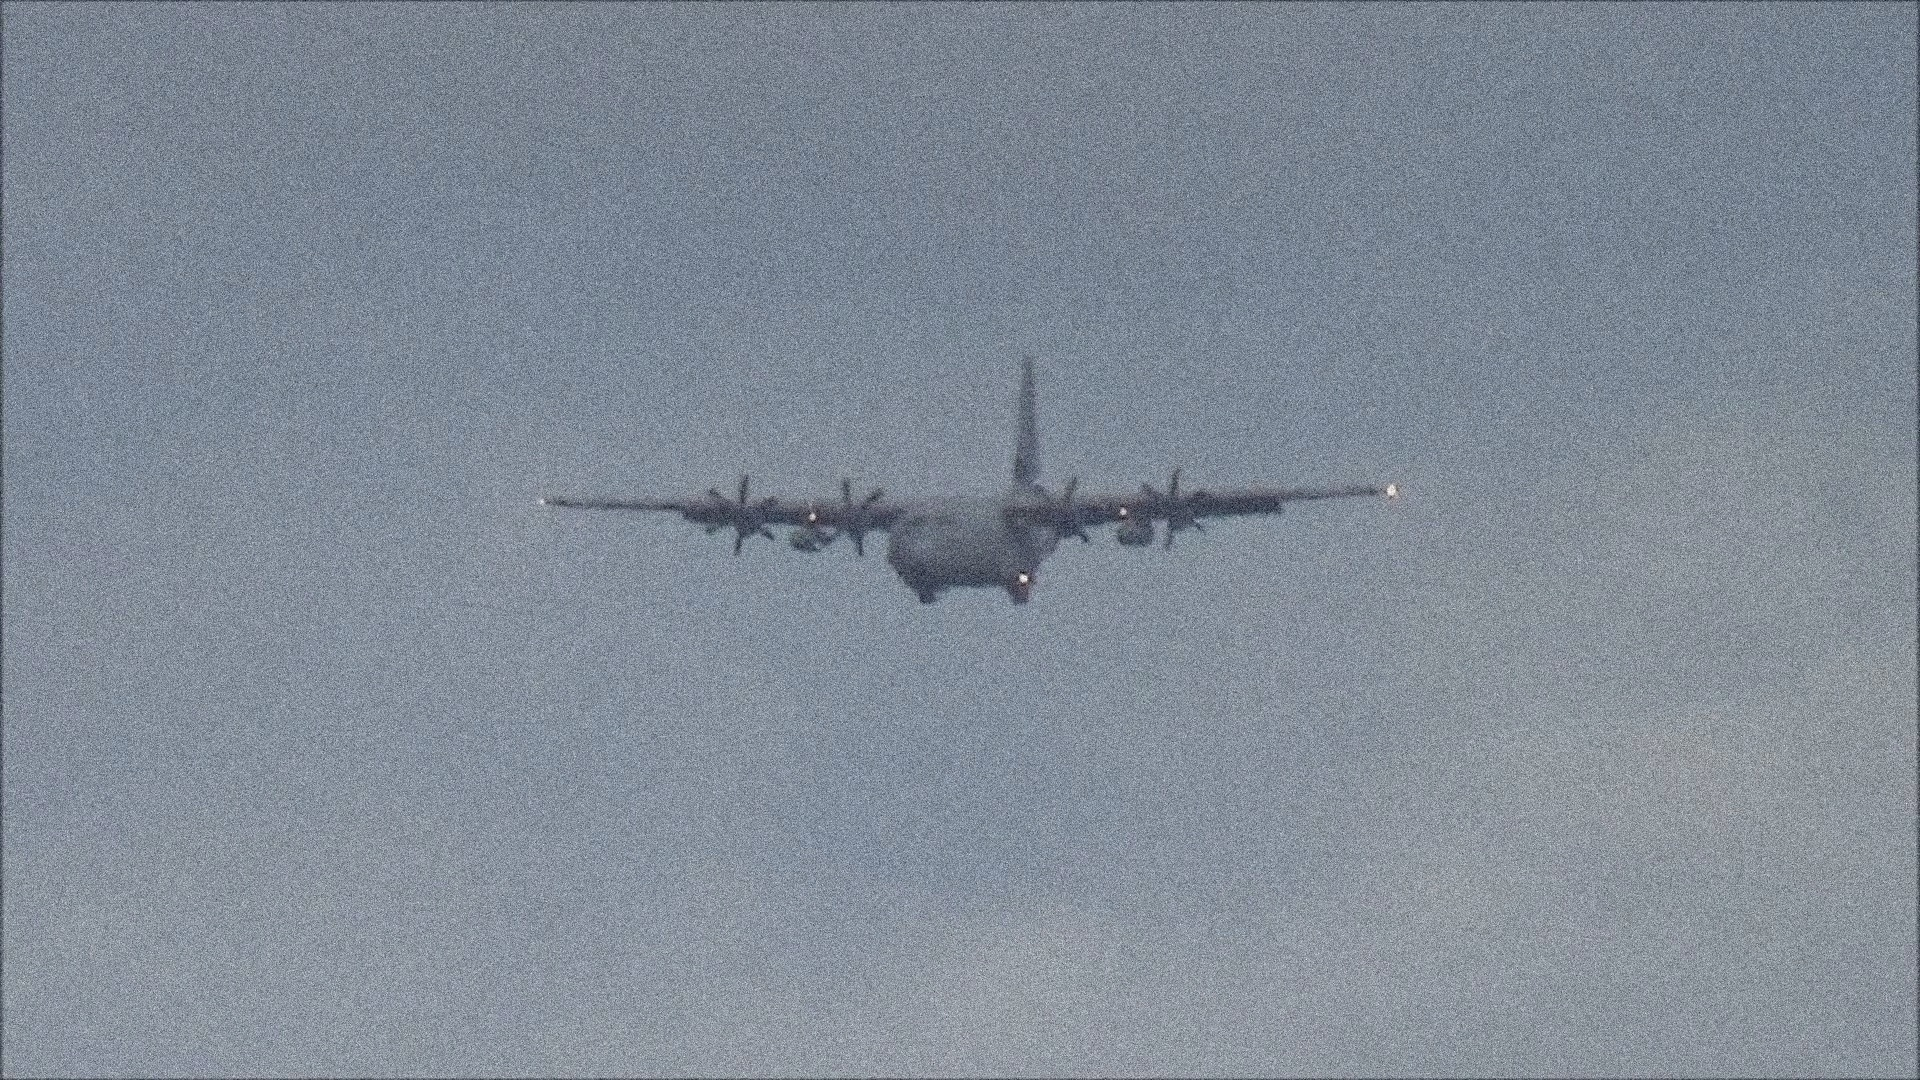Airplane: (535, 345, 1399, 601)
